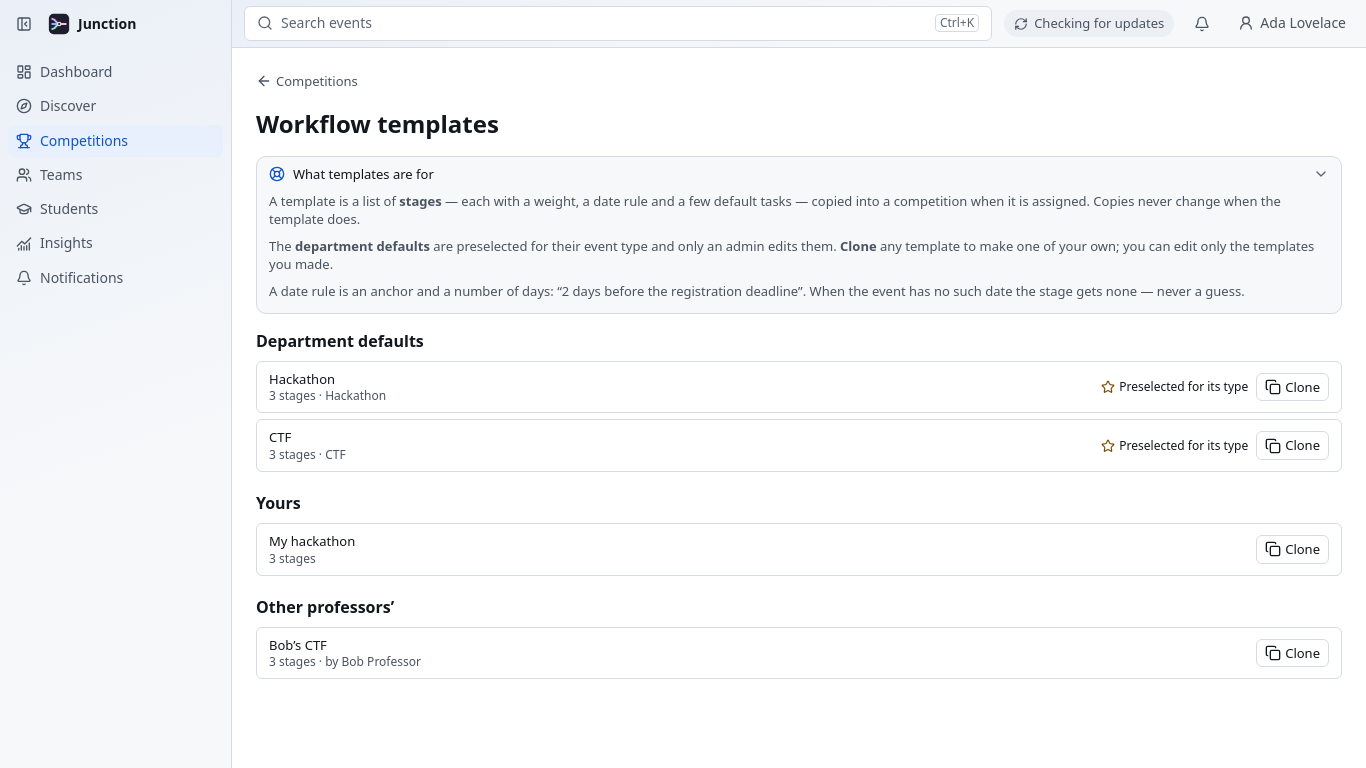
Scenario: the templates list › Clone makes one of your own and opens it for editing
Expected: the navigation bar named "Main" is shown, [0,0,231,302]
What coordinates should you click on to do the following:
click the button with aria-label "Clone Hackathon"
I would click on:
 (1293, 387)
Its box is [1256,373,1329,401].
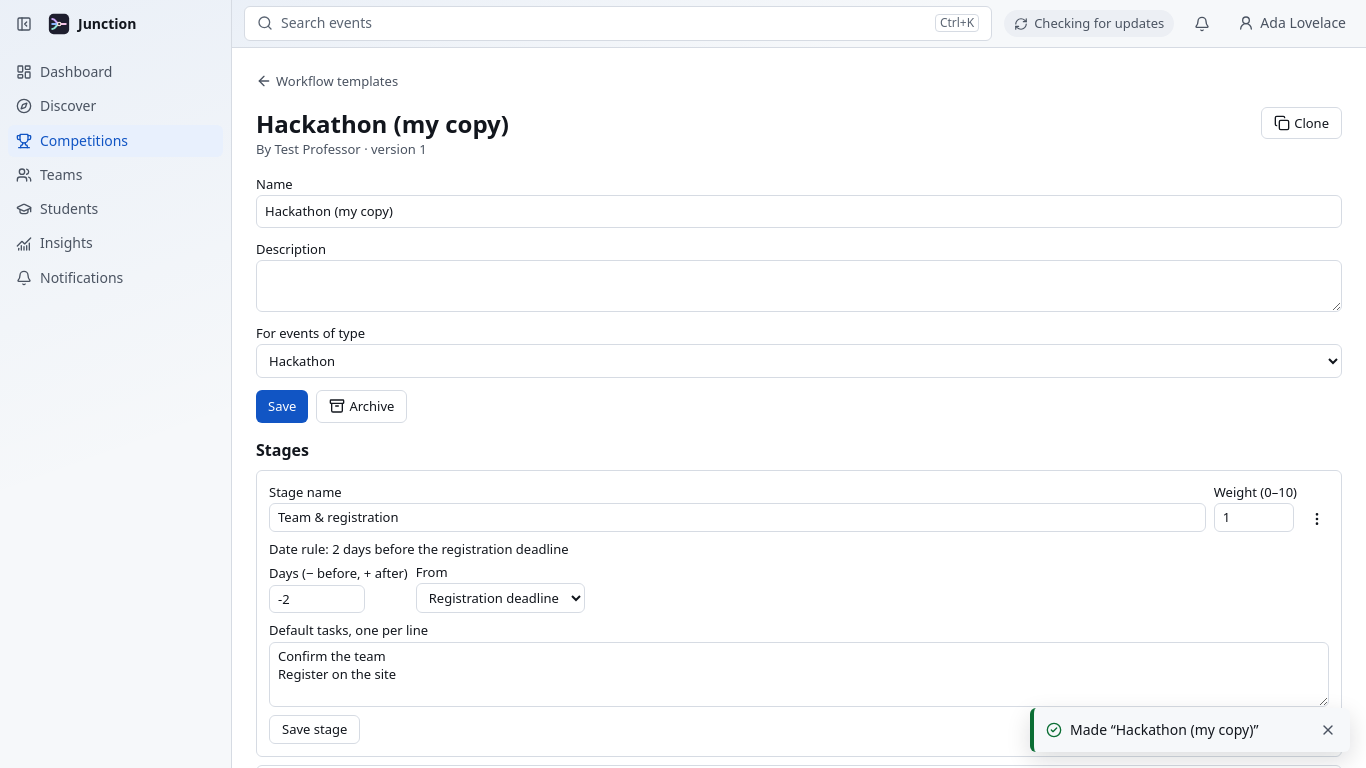
Result: the heading "Hackathon (my copy)" is shown at [256,107,509,140]
Result: the field labelled "Name" holds "Hackathon (my copy)" at [256,195,1342,228]
